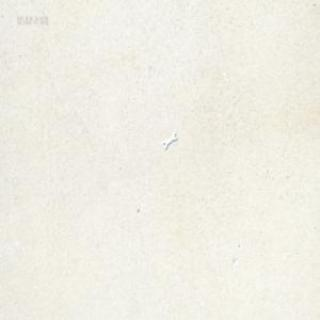Wrenchtrack_idkeyframe: (162, 132, 177, 148)
